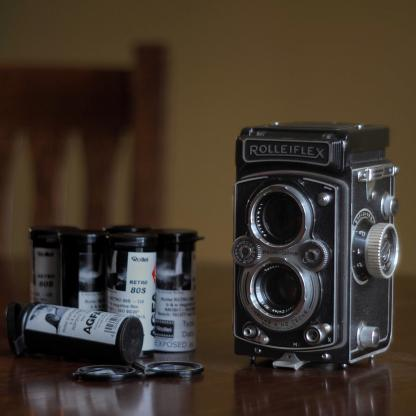Camera: (229, 118, 403, 372)
